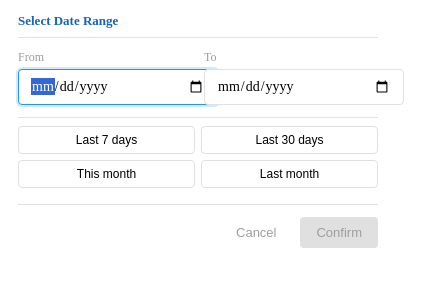
Test: DateRangeWidget advanced interactions › should show error when from date is after to date
The image size is (421, 300).
Type "2024-06-30" into the date field below "From" at (118, 87), box [18,69,218,105]
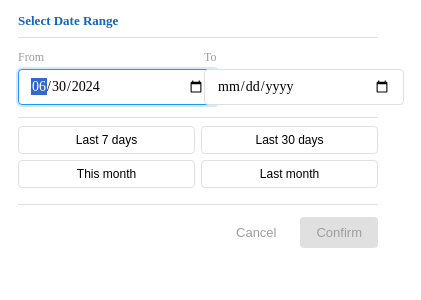
Type "2024-06-01" into the date field below "To" at (304, 87), box [204,69,404,105]
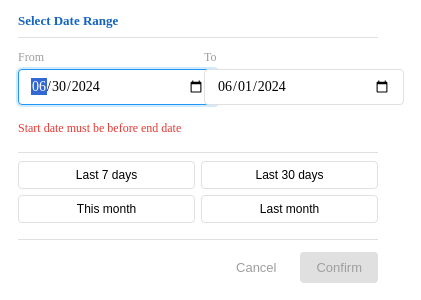
Now the text "Start date must be before end date" is shown, box [18,121,181,135]
